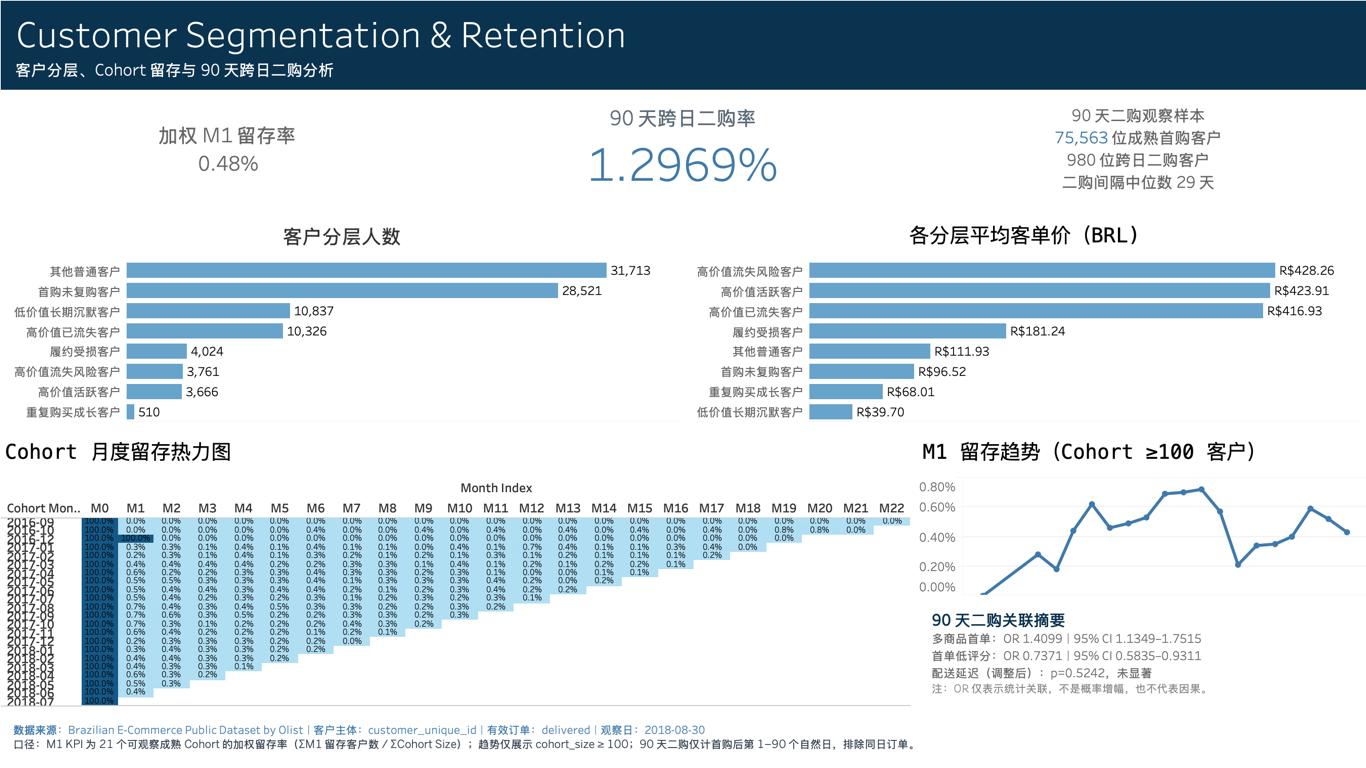

Layout of this report page (visuals, bound fields, positions):
{"tool":"tableau","page":{"name":"Customer Segmentation & Retention","canvas":[1366,768],"ordinal":0},"visuals":[{"type":"text","box":[8,8,1350,88]},{"type":"worksheet","title":"KPI M1 Retention","mark":"Automatic","box":[8,100,450,110]},{"type":"worksheet","title":"KPI Repeat 90D","mark":"Automatic","box":[458,100,450,110]},{"type":"text","box":[908,100,450,110]},{"type":"worksheet","title":"Segment Size","mark":"Automatic","rows":["segment"],"cols":["customer_count"],"box":[8,218,675,210]},{"type":"worksheet","title":"Segment AOV","mark":"Automatic","rows":["segment"],"cols":["average_order_value"],"box":[683,218,675,210]},{"type":"worksheet","title":"Cohort Heatmap","mark":"Square","rows":["cohort_month"],"cols":["month_index"],"box":[8,436,900,270]},{"type":"worksheet","title":"M1 Retention Trend","mark":"Line","rows":["retention_pct"],"cols":["cohort_month"],"box":[916,436,442,160]},{"type":"text","box":[916,600,442,106]},{"type":"text","box":[8,712,1350,48]}]}

Visuals, with their boxes in screenshot pixels (x1, y1, x2, y2), scaled from the page's 1366x768 canvas onto the 1366x768 screenshot:
text: bbox(8, 8, 1358, 96)
"KPI M1 Retention" worksheet: bbox(8, 100, 458, 210)
"KPI Repeat 90D" worksheet: bbox(458, 100, 908, 210)
text: bbox(908, 100, 1358, 210)
"Segment Size" worksheet: bbox(8, 218, 683, 428)
"Segment AOV" worksheet: bbox(683, 218, 1358, 428)
"Cohort Heatmap" worksheet (Square marks): bbox(8, 436, 908, 706)
"M1 Retention Trend" worksheet (Line marks): bbox(916, 436, 1358, 596)
text: bbox(916, 600, 1358, 706)
text: bbox(8, 712, 1358, 760)
